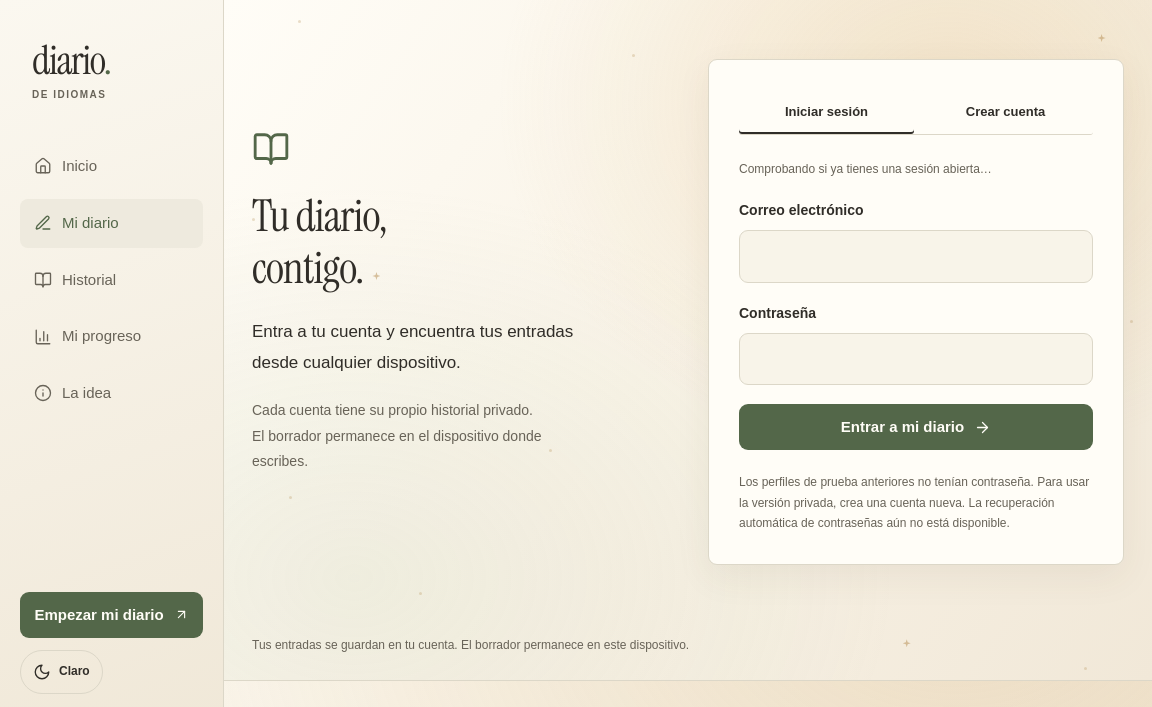
sesión inicial y acceso concurrente › permite entrar mientras la sesión inicial tarda y descarta su respuesta antigua
Expected: the message shows "Comprobando", [739,162,992,176]
Step 1. Type "nueva@example.com" into the field labelled "Correo electrónico" → x=916, y=257, box [739,230,1093,283]
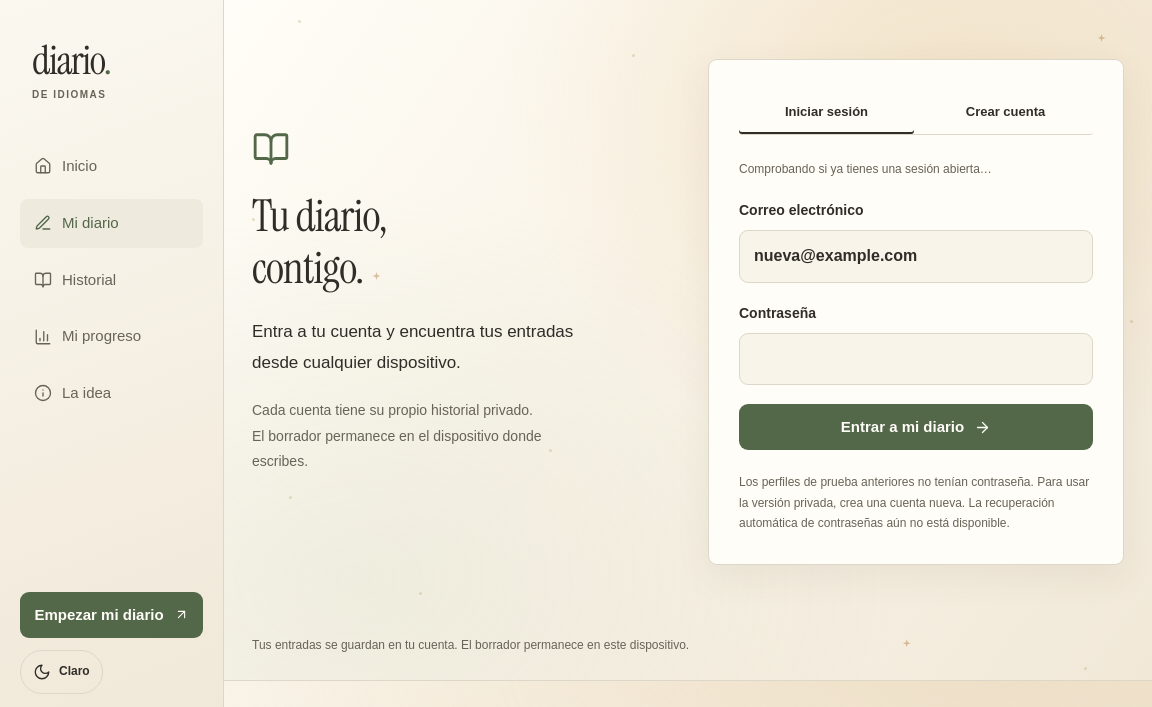
Step 2. Type "clave-de-prueba-local" into the password field labelled "Contraseña" → x=916, y=359, box [739,333,1093,385]
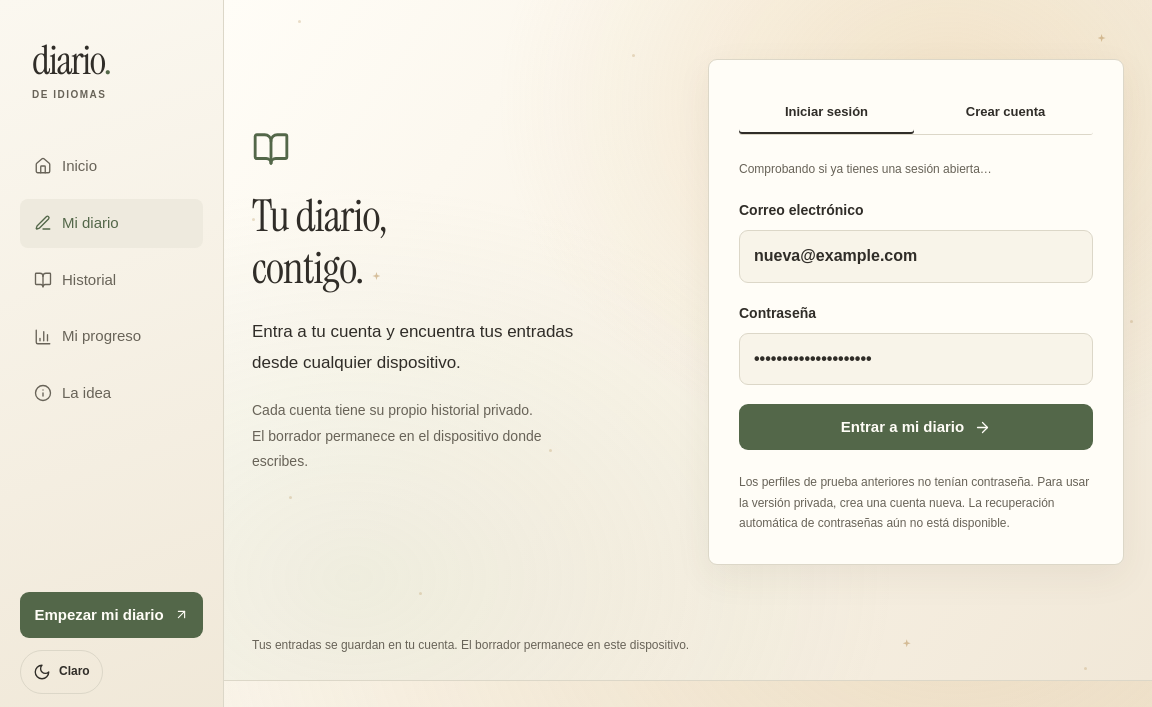
Step 3. Submit the form named "Entrar a mi diario", box [739,160,1093,534]
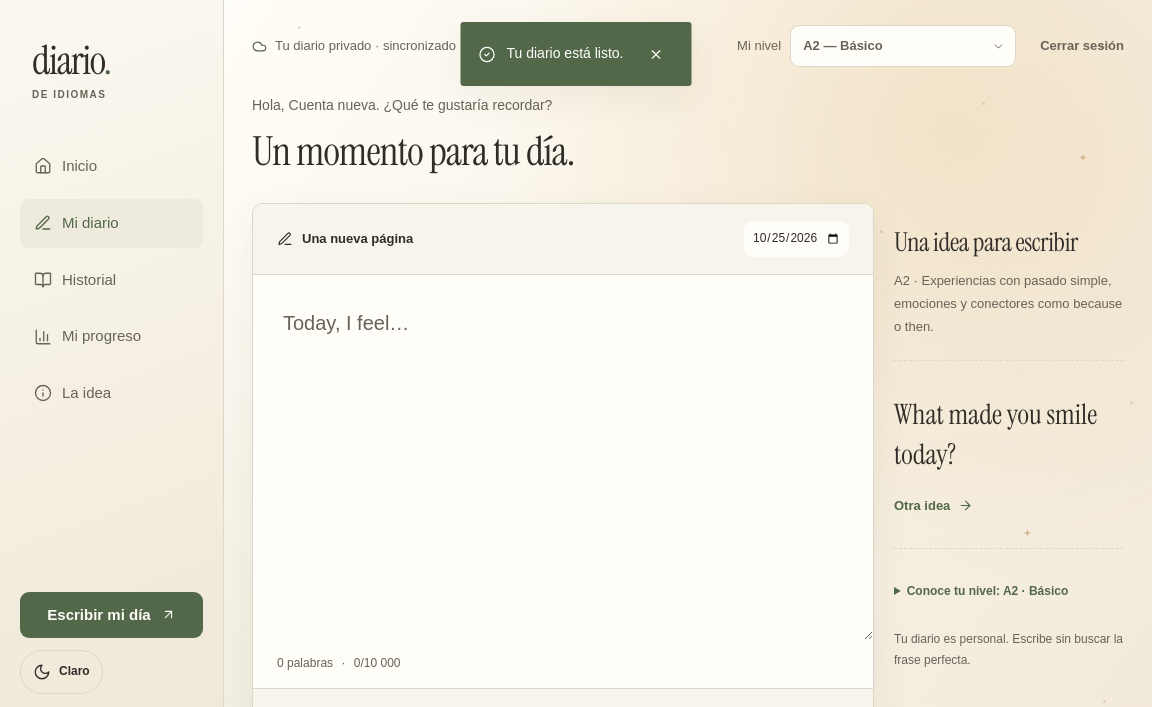
Now the text "Hola, Cuenta nueva. ¿Qué te gustaría recordar?" is shown, box [252,94,574,117]
